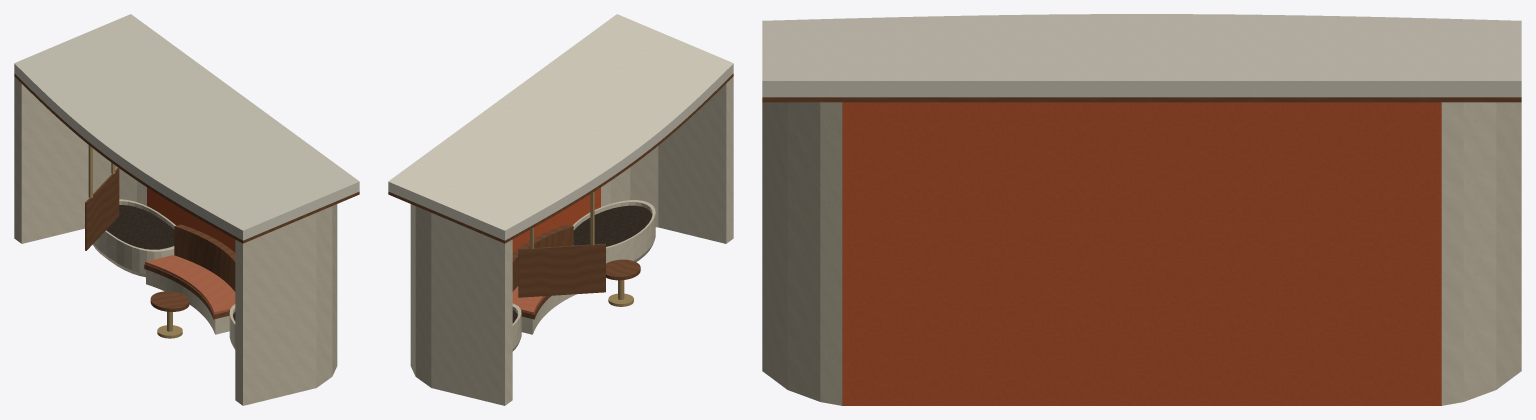
Rendered from AST-AQU-016_east_gallery_rest_bay_r02.glb.
3 renders of one model, left to right at view 1: azimuth 30°, elevation 25°; view 2: azimuth 150°, elevation 25°; view 3: azimuth 270°, elevation 25°, orthographic. The views are drawn at different scales.
Parts seen in each view (by area): view 1: EAST_Bay_PaleFrontCanopy, EAST_Bay_AftSweptReturn, EAST_Bay_ForeSweptReturn, EAST_Bench_WalnutBack, EAST_Bench_ClayUpholstery, EAST_ForeSoilBed_Soil, EAST_ForeSoilBed_Container, EAST_Display_AngledReceiver, EAST_Bay_CurvedClayBack, EAST_Bay_WarmRearCanopy, EAST_Bench_StonePlinth, EAST_Table_WalnutTop (+1 smaller); view 2: EAST_Bay_PaleFrontCanopy, EAST_Bay_ForeSweptReturn, EAST_Bay_AftSweptReturn, EAST_Display_AngledReceiver, EAST_AftSoilBed_Soil, EAST_AftSoilBed_Container, EAST_Bay_WarmRearCanopy, EAST_Bay_CurvedClayBack, EAST_Bench_WalnutBack, EAST_Table_WalnutTop, EAST_Bench_StonePlinth, EAST_Bench_ClayUpholstery (+1 smaller); view 3: EAST_Bay_CurvedClayBack, EAST_Bay_PaleFrontCanopy, EAST_Bay_AftSweptReturn, EAST_Bay_ForeSweptReturn, EAST_Bay_WarmRearCanopy, EAST_Bay_RearHeader.
Part boxes in pixels (x1=…): EAST_Bay_PaleFrontCanopy: x1=14, y1=14, x2=359, y2=240; EAST_Bay_AftSweptReturn: x1=235, y1=204, x2=337, y2=405; EAST_Bay_ForeSweptReturn: x1=14, y1=76, x2=146, y2=243; EAST_Bench_WalnutBack: x1=174, y1=224, x2=235, y2=291; EAST_Bench_ClayUpholstery: x1=145, y1=255, x2=235, y2=314; EAST_ForeSoilBed_Soil: x1=106, y1=205, x2=174, y2=249; EAST_ForeSoilBed_Container: x1=92, y1=199, x2=175, y2=277; EAST_Display_AngledReceiver: x1=85, y1=168, x2=119, y2=250; EAST_Bay_CurvedClayBack: x1=147, y1=187, x2=235, y2=252; EAST_Bay_WarmRearCanopy: x1=14, y1=73, x2=359, y2=243; EAST_Bench_StonePlinth: x1=146, y1=269, x2=229, y2=334; EAST_Table_WalnutTop: x1=150, y1=291, x2=189, y2=311; EAST_Bay_PaleFrontCanopy: x1=388, y1=14, x2=733, y2=240; EAST_Bay_ForeSweptReturn: x1=410, y1=204, x2=512, y2=405; EAST_Bay_AftSweptReturn: x1=601, y1=76, x2=733, y2=243; EAST_Display_AngledReceiver: x1=518, y1=243, x2=605, y2=297; EAST_AftSoilBed_Soil: x1=573, y1=205, x2=652, y2=246; EAST_AftSoilBed_Container: x1=573, y1=200, x2=655, y2=263; EAST_Bay_WarmRearCanopy: x1=388, y1=73, x2=733, y2=243; EAST_Bay_CurvedClayBack: x1=512, y1=187, x2=600, y2=252; EAST_Bench_WalnutBack: x1=512, y1=224, x2=573, y2=291; EAST_Table_WalnutTop: x1=606, y1=259, x2=640, y2=280; EAST_Bench_StonePlinth: x1=521, y1=294, x2=575, y2=334; EAST_Bench_ClayUpholstery: x1=512, y1=286, x2=544, y2=314; EAST_Bay_CurvedClayBack: x1=842, y1=107, x2=1441, y2=405; EAST_Bay_PaleFrontCanopy: x1=762, y1=14, x2=1521, y2=97; EAST_Bay_AftSweptReturn: x1=762, y1=102, x2=842, y2=405; EAST_Bay_ForeSweptReturn: x1=1441, y1=102, x2=1521, y2=405; EAST_Bay_WarmRearCanopy: x1=762, y1=97, x2=1521, y2=102; EAST_Bay_RearHeader: x1=842, y1=102, x2=1441, y2=107.
Size of the model in its own units: 3 by 4.25 by 9.
8 materials, 7 textured.
